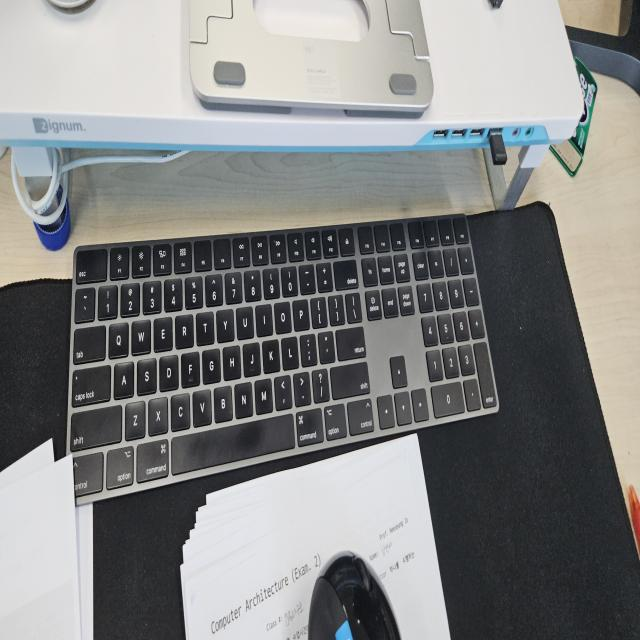Keyboard: (64, 212, 500, 505)
Mouse: (306, 547, 402, 637)
